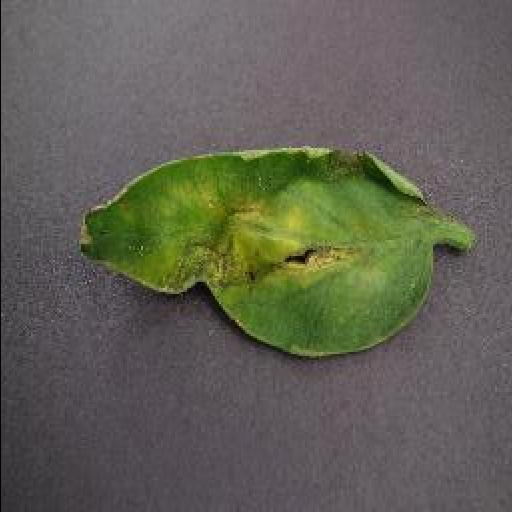disease_tomato: (75, 142, 441, 354)
